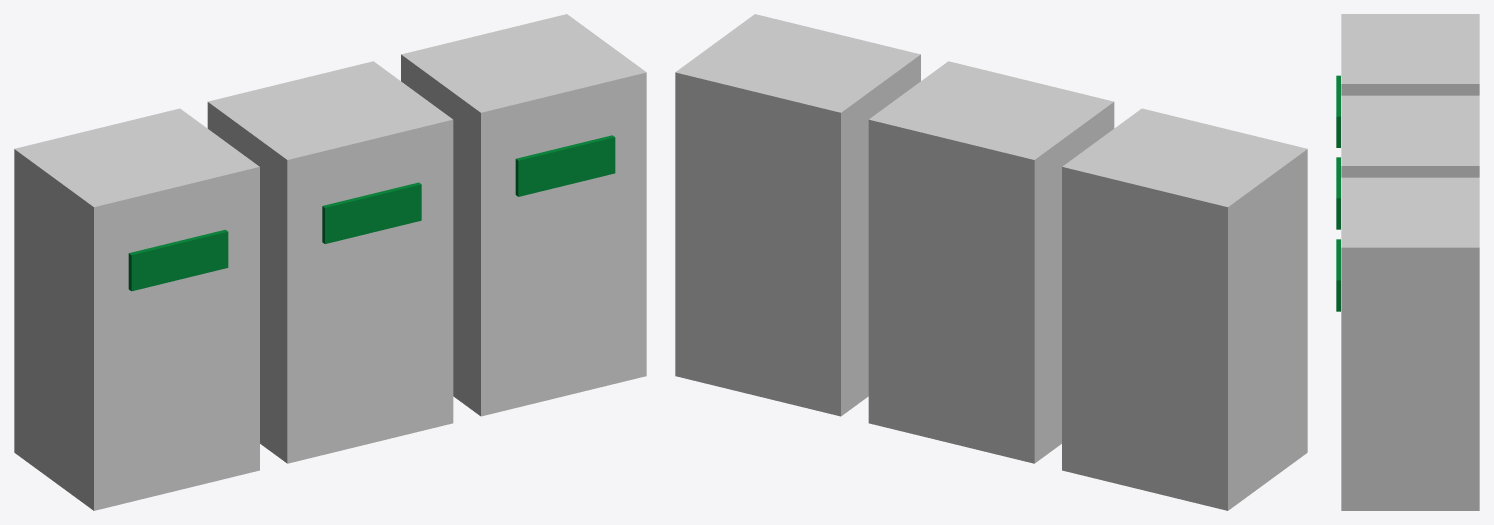
Rendered from battery_store.glb.
3 views of the same model, side by side, from view 1: azimuth 30°, elevation 25°; view 2: azimuth 150°, elevation 25°; view 3: azimuth 270°, elevation 25° (orthographic). The views are drawn at different scales.
Visible parts, largest first — view 1: battery-cabinet_white, status_green; view 2: battery-cabinet_white; view 3: battery-cabinet_white, status_green.
Part boxes in pixels (x1,y1,x2,y2): battery-cabinet_white: (14, 14, 646, 510); status_green: (128, 135, 615, 291); battery-cabinet_white: (675, 14, 1307, 510); battery-cabinet_white: (1341, 14, 1479, 510); status_green: (1336, 75, 1340, 311).
Size of the model in its own units: 4 by 2.1 by 1.04.
